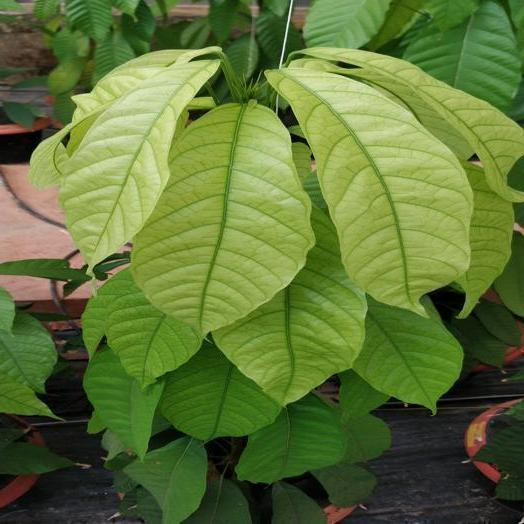Iron: (268, 67, 472, 314), (131, 102, 314, 334), (304, 48, 523, 201), (60, 60, 217, 268)
